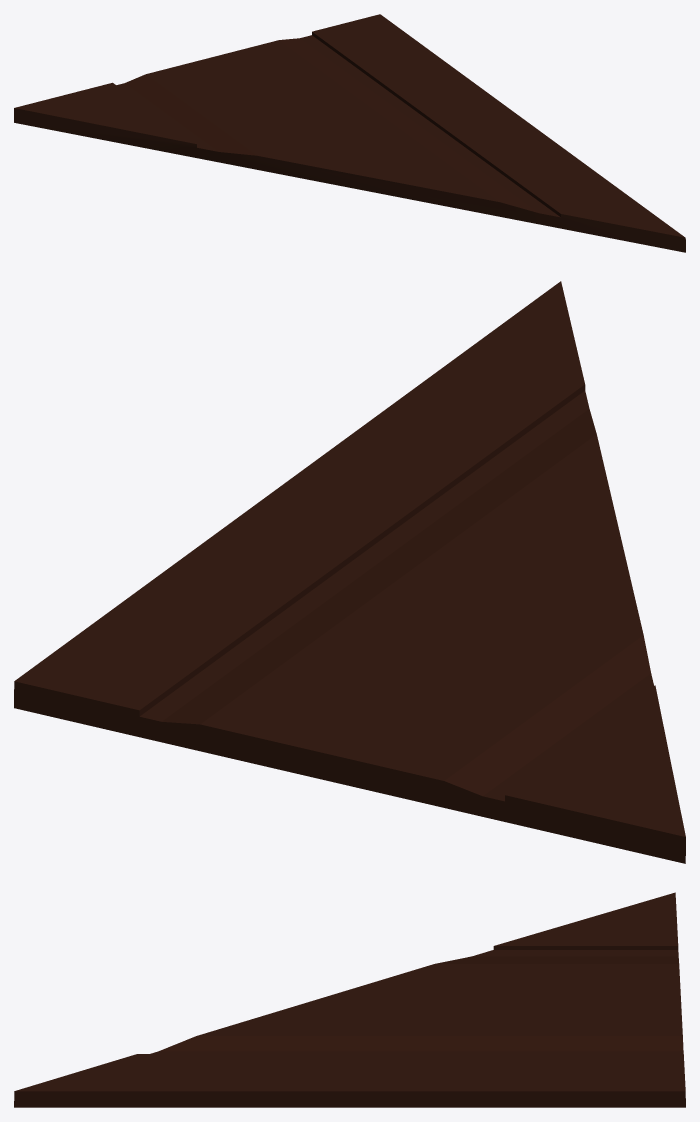
The model's file is Placard_Part_10.fbx.
The picture shows the model from 3 angles, top to bottom: view 1: azimuth 30°, elevation 25°; view 2: azimuth 150°, elevation 25°; view 3: azimuth 270°, elevation 25°; orthographic projection. The views are drawn at different scales.
Visible parts, largest first — view 1: Placard_Part_10; view 2: Placard_Part_10; view 3: Placard_Part_10.
Boxes of the visible parts, x1=… form: Placard_Part_10: x1=14, y1=14, x2=685, y2=252; Placard_Part_10: x1=14, y1=281, x2=685, y2=863; Placard_Part_10: x1=14, y1=892, x2=685, y2=1107.
Size of the model in its own units: 71.09 by 2.73 by 102.
